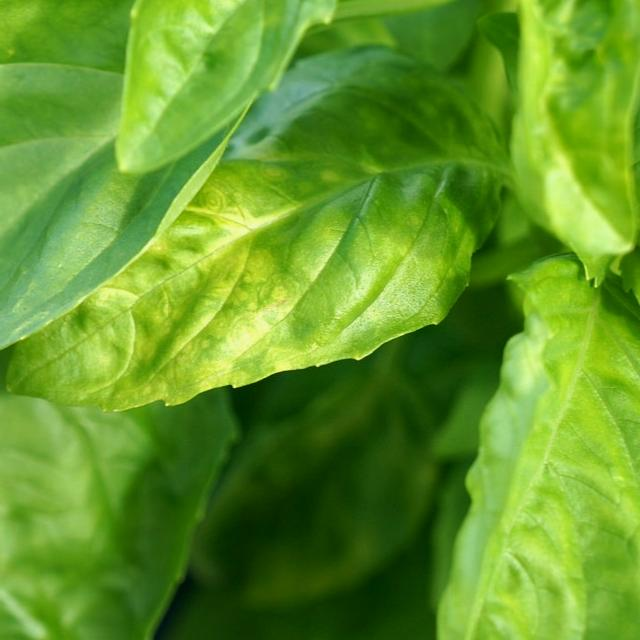Tomato leaf: (2, 51, 510, 409), (0, 0, 204, 432)
